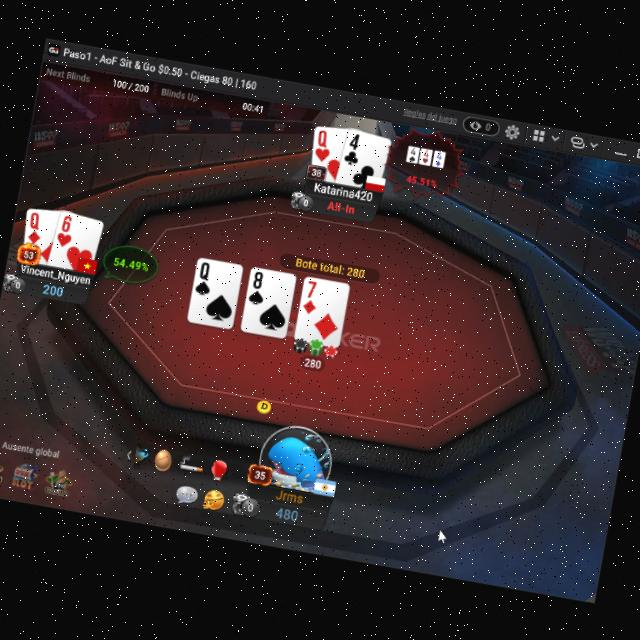4c: (340, 127, 364, 167)
6h: (54, 210, 78, 248)
7d: (300, 276, 322, 314)
8s: (247, 267, 270, 306), (247, 266, 270, 304)
Qd: (23, 207, 47, 245)
Qh: (312, 124, 336, 162)
Qs: (193, 256, 217, 296)
all_in_symbol: (325, 197, 357, 215), (406, 172, 438, 188)
bet_text: (302, 352, 324, 368)
dealer: (254, 394, 274, 414)
pot_text: (293, 254, 367, 278)
stack_text: (274, 502, 300, 520), (40, 280, 65, 296)
